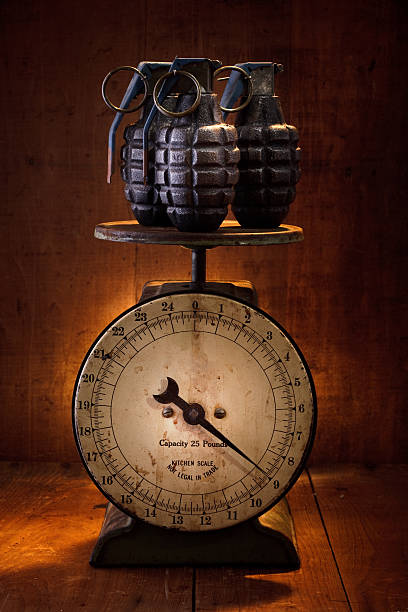e1: (142, 53, 240, 230), (219, 58, 305, 223)
